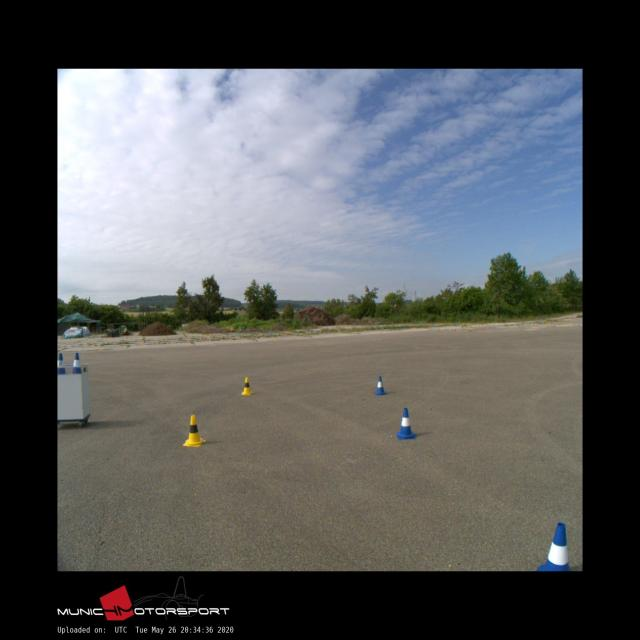blue_cone: (536, 522, 569, 571), (396, 407, 415, 439), (375, 376, 386, 395), (72, 354, 82, 374), (57, 353, 65, 373)
yellow_cone: (182, 415, 205, 446), (241, 377, 251, 394)
